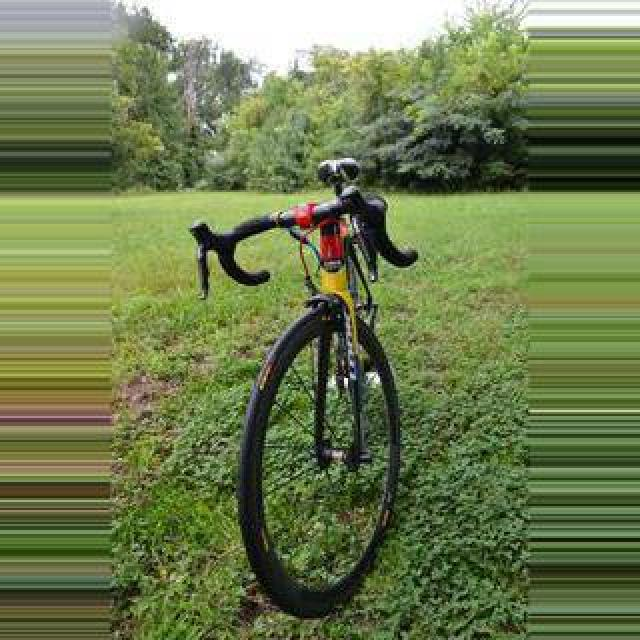Person: (191, 163, 417, 625)
